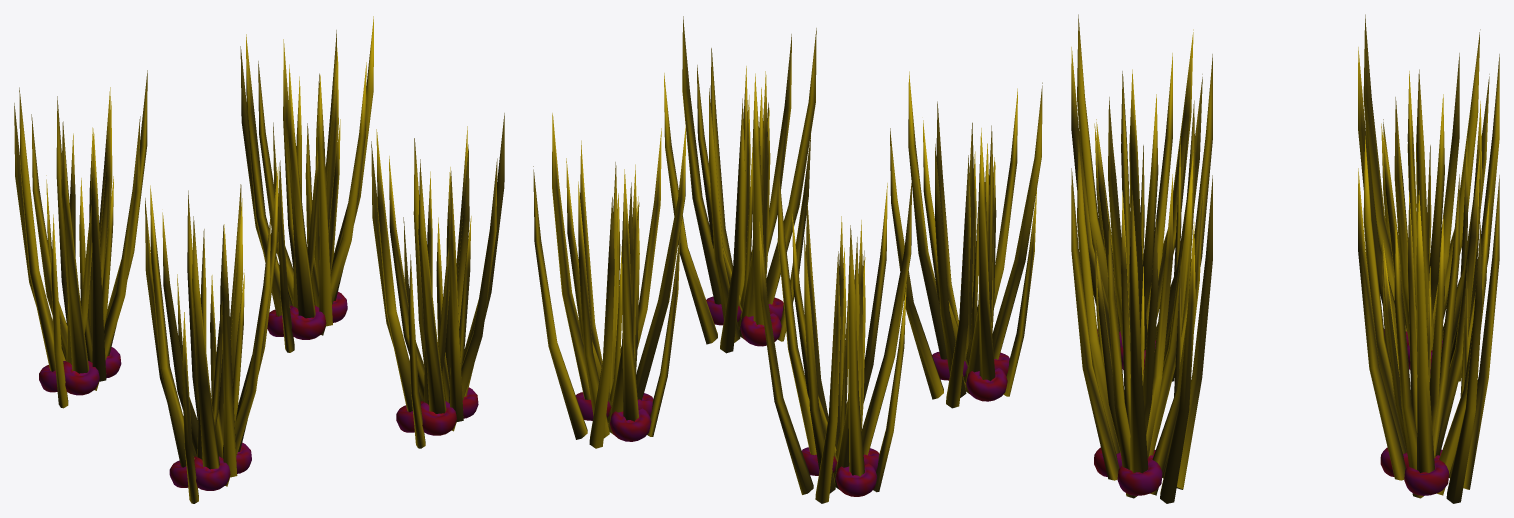
Rendered from Farm_Crop_Water_Chestnut_Dead.fbx.
3 views of the same model, side by side, from view 1: azimuth 30°, elevation 25°; view 2: azimuth 150°, elevation 25°; view 3: azimuth 270°, elevation 25° (orthographic). The views are drawn at different scales.
Visible parts, largest first — view 1: Farm_Crop_Water_Chestnut_Dead; view 2: Farm_Crop_Water_Chestnut_Dead; view 3: Farm_Crop_Water_Chestnut_Dead.
Part boxes in pixels (bbox=[...]): Farm_Crop_Water_Chestnut_Dead: bbox=[14, 16, 504, 503]; Farm_Crop_Water_Chestnut_Dead: bbox=[533, 16, 1042, 503]; Farm_Crop_Water_Chestnut_Dead: bbox=[1071, 14, 1499, 503].
Size of the model in its own units: 149 by 131 by 149.
